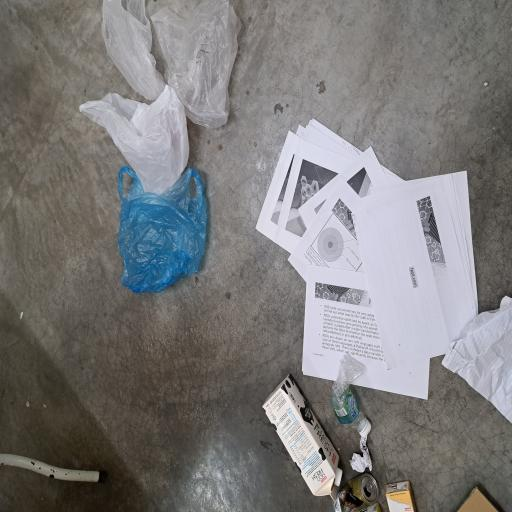can: (0, 444, 30, 506)
drink carton: (8, 349, 104, 457)
paper: (83, 339, 296, 512), (30, 464, 59, 496)
plastic bag: (286, 196, 384, 323), (237, 106, 322, 252), (164, 156, 260, 276), (309, 134, 384, 224)
plastic bottle: (60, 440, 118, 487)
plastic bottle cap: (56, 480, 68, 496)
pop tab: (15, 488, 24, 500)
